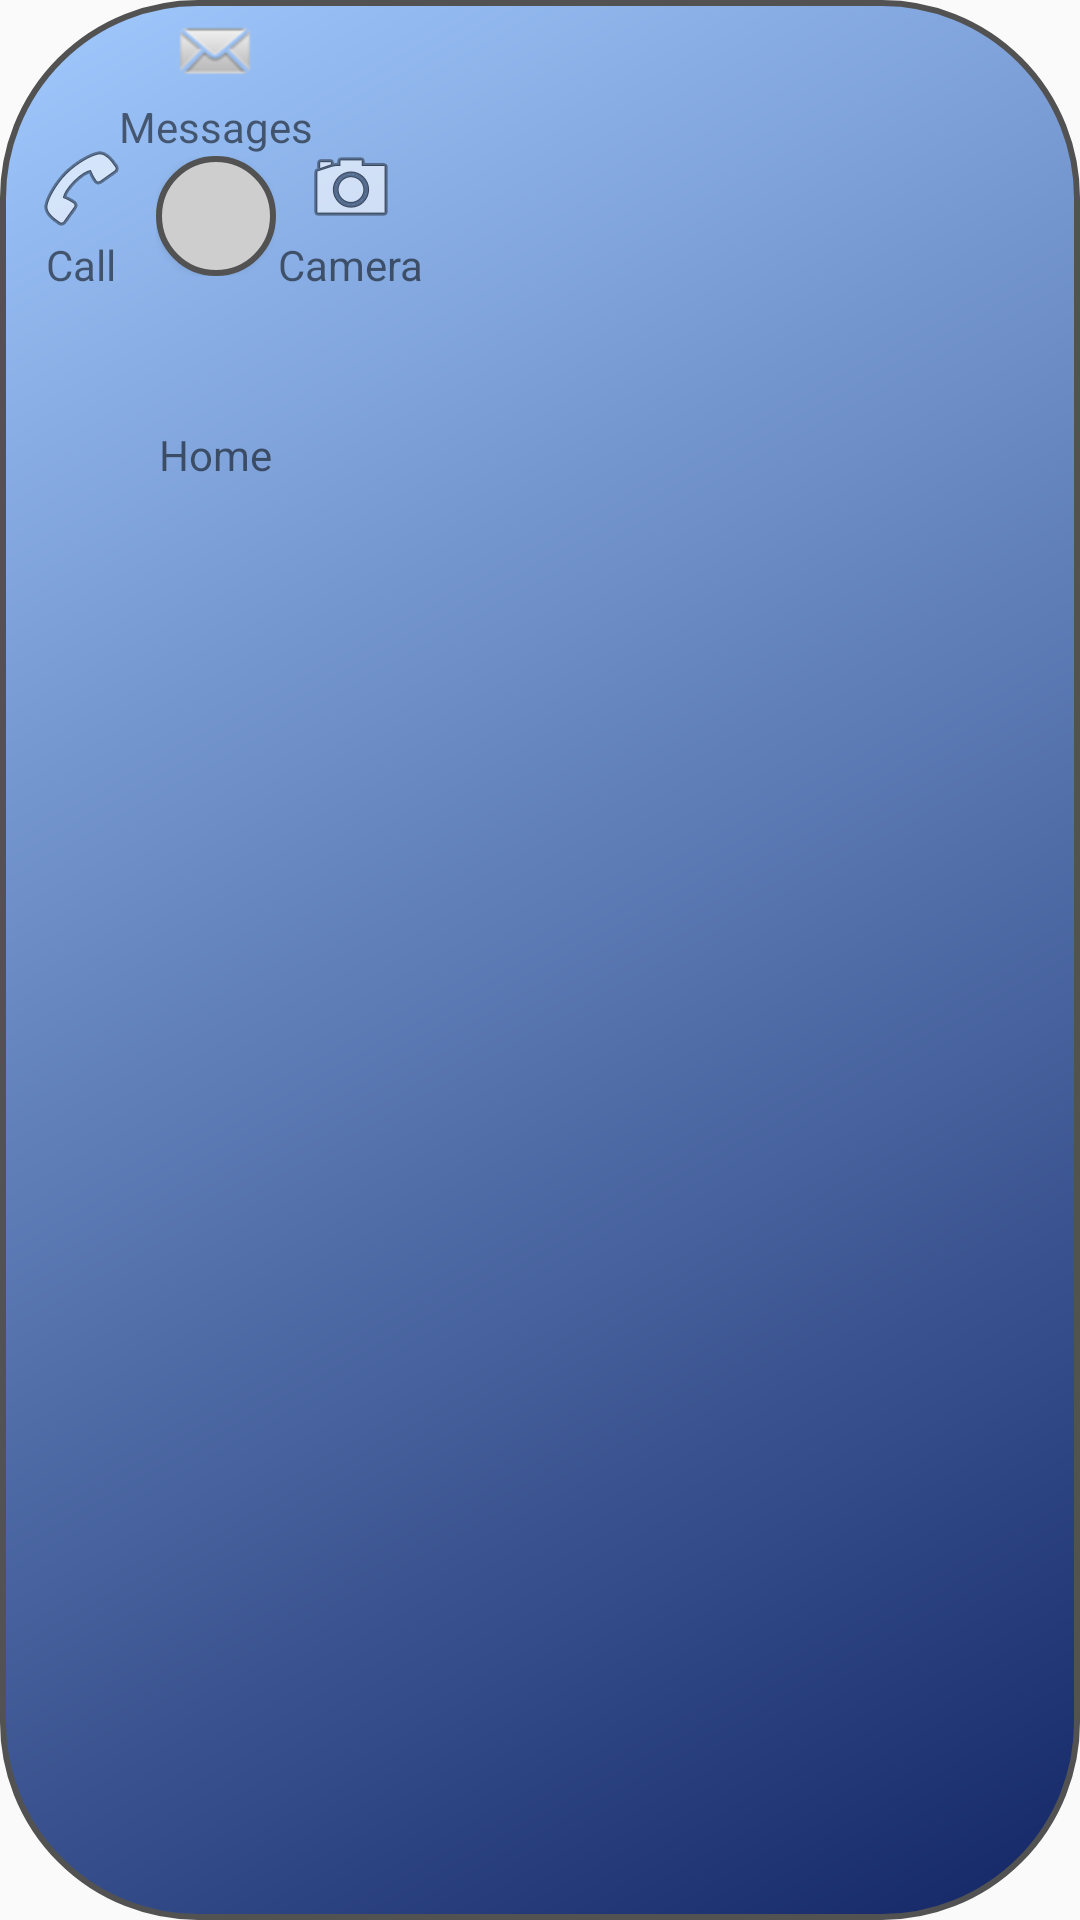

Icons on this 1080x1920 Android screen, each with its box as (x1, y1, x2, y2):
sym action email: (180, 28, 250, 74)
